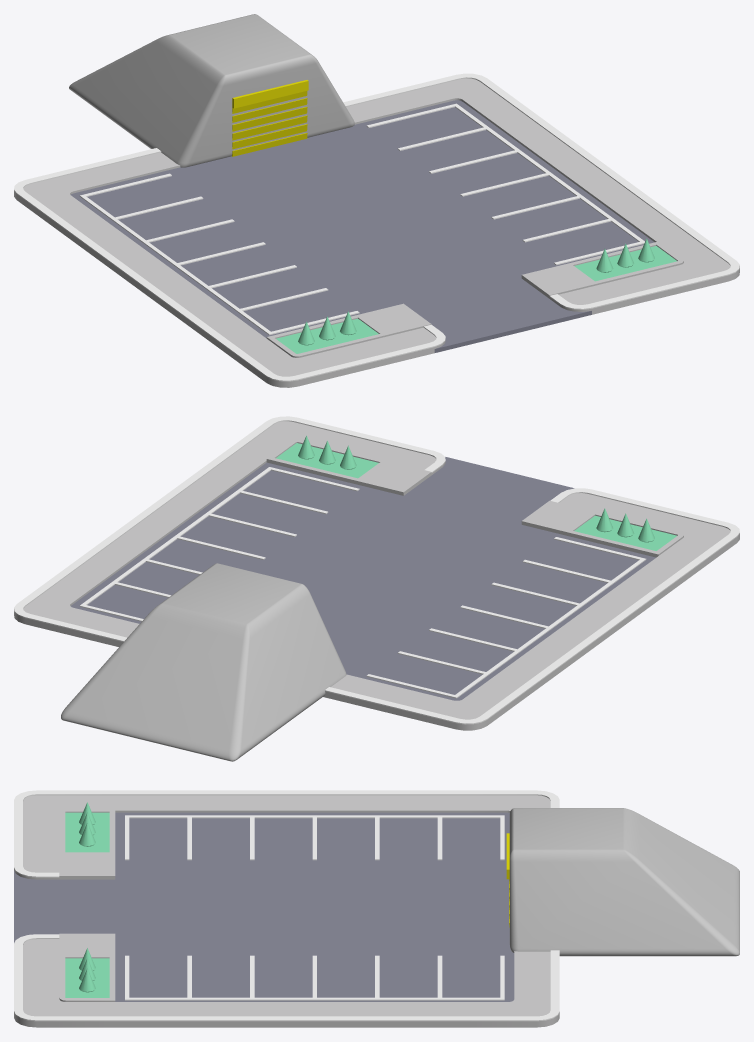
Rendered from Parking.fbx.
The picture shows the model from 3 angles, top to bottom: view 1: azimuth 30°, elevation 25°; view 2: azimuth 150°, elevation 25°; view 3: azimuth 270°, elevation 25°; orthographic projection.
Visible parts, largest first — view 1: Road, Footpath, Box, Lines, Concretes, Door, Grass, Trees; view 2: Road, Box, Footpath, Lines, Concretes, Grass, Trees; view 3: Road, Box, Footpath, Lines, Concretes, Grass, Trees.
Boxes of the visible parts, bbox=[...] form: Road: bbox=[71, 100, 654, 352]; Footpath: bbox=[14, 78, 739, 387]; Box: bbox=[69, 14, 354, 167]; Lines: bbox=[14, 73, 739, 381]; Concretes: bbox=[266, 241, 683, 357]; Door: bbox=[232, 80, 308, 156]; Grass: bbox=[276, 246, 676, 353]; Trees: bbox=[298, 238, 654, 345]; Road: bbox=[71, 457, 655, 700]; Box: bbox=[61, 563, 346, 761]; Footpath: bbox=[14, 421, 739, 730]; Lines: bbox=[14, 416, 739, 724]; Concretes: bbox=[266, 439, 683, 557]; Grass: bbox=[276, 443, 676, 550]; Trees: bbox=[298, 435, 654, 542]; Road: bbox=[14, 812, 514, 1001]; Box: bbox=[509, 808, 739, 956]; Footpath: bbox=[14, 795, 559, 1027]; Lines: bbox=[14, 790, 559, 1021]; Concretes: bbox=[59, 809, 115, 1001]; Grass: bbox=[65, 812, 109, 997]; Trees: bbox=[79, 802, 95, 992].
Bounding box in the file's own units: 23917 × 4157 × 31924.
